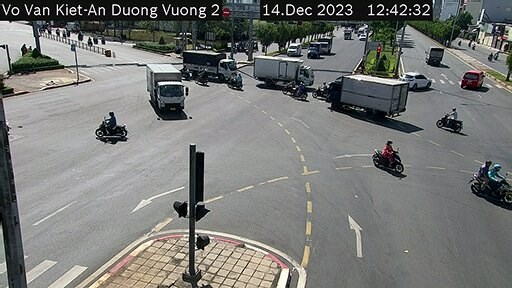car: (394, 63, 429, 93), (460, 65, 486, 91), (286, 41, 304, 59), (308, 40, 325, 59)
motorbike: (476, 152, 510, 203), (95, 110, 132, 146), (372, 133, 401, 175), (439, 105, 462, 133)
truck: (327, 68, 410, 116), (141, 60, 188, 122), (249, 49, 316, 86), (181, 50, 239, 83), (422, 45, 445, 64)
